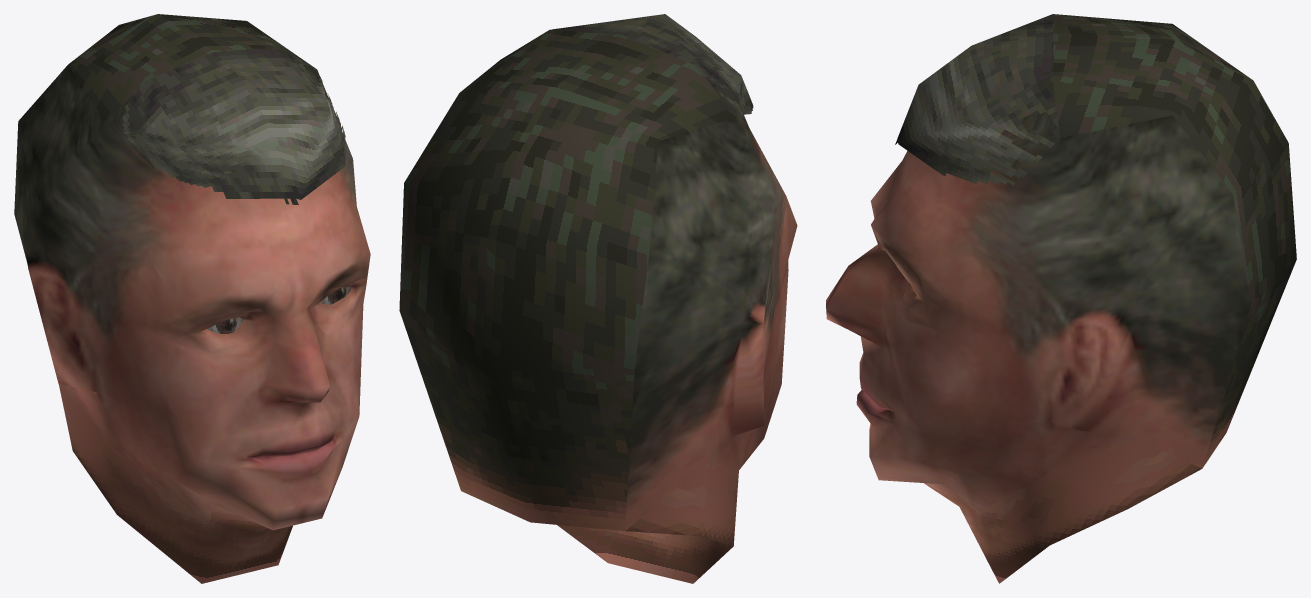
The model's file is Vince_H.obj.
3 views of the same model, side by side, from view 1: azimuth 30°, elevation 25°; view 2: azimuth 150°, elevation 25°; view 3: azimuth 270°, elevation 25° (orthographic). The views are drawn at different scales.
Visible parts, largest first — view 1: Vince_H.001; view 2: Vince_H.001; view 3: Vince_H.001.
Boxes of the visible parts, x1,y1,x2,y2 form: Vince_H.001: (14,14,370,583); Vince_H.001: (399,14,797,583); Vince_H.001: (826,14,1296,583).
Size of the model in its own units: 2.01 by 3.09 by 2.49.
6 materials, 6 textured.
